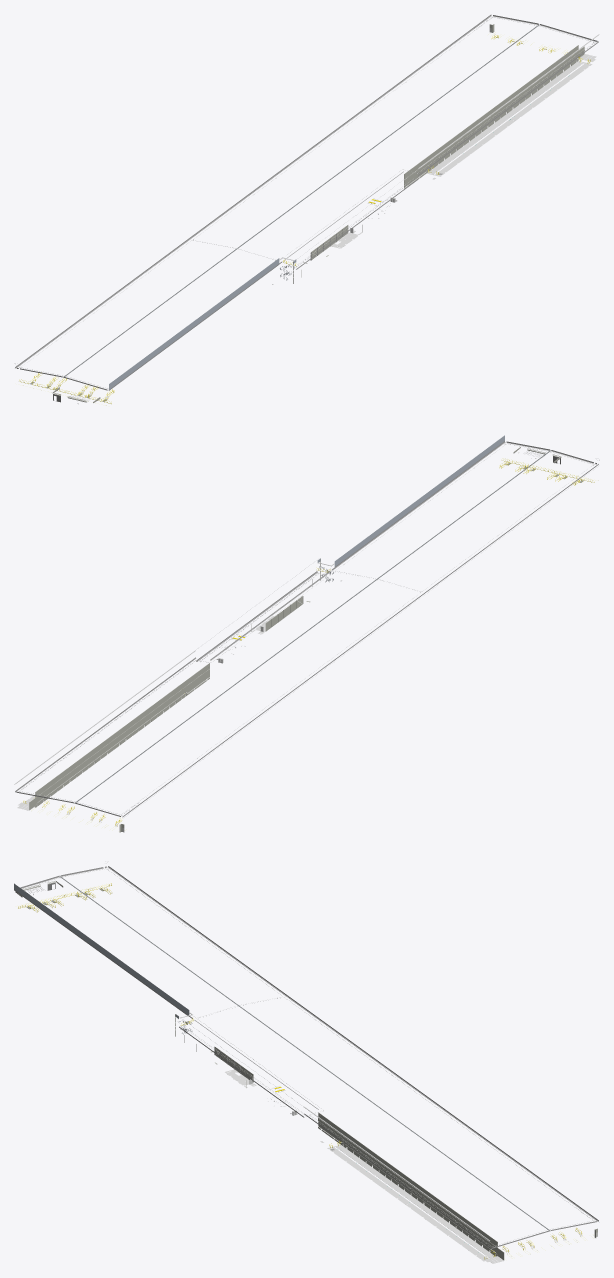
Rendered from pt104-l1t1-1542-104-con-ed-arq-mo-0001-r04.glb.
3 views of the same model, one above another, from view 1: azimuth 30°, elevation 25°; view 2: azimuth 210°, elevation 25°; view 3: azimuth 270°, elevation 25° (orthographic).
Visible parts, largest first — view 1: 0JfKUd1FP2OhY6RO0KGtgX, 39T_C8CmPA_g3YRH5obR$5, 3_Dmqi5Pj9nOBEPHfVFI5S, 2HG1oLTWjCpwLlsFWBGHlP, 3cgGebQ_P3nAF8r2o0mW8p, 3qeoG17_TDnPZ2jiwn3Fan; view 2: 39T_C8CmPA_g3YRH5obR$5, 3cgGebQ_P3nAF8r2o0mW8p, 2HG1oLTWjCpwLlsFWBGHlP, 3qeoG17_TDnPZ2jiwn3Fan, 3_Dmqi5Pj9nOBEPHfVFI5S; view 3: 0JfKUd1FP2OhY6RO0KGtgX, 39T_C8CmPA_g3YRH5obR$5, 3_Dmqi5Pj9nOBEPHfVFI5S, 2HG1oLTWjCpwLlsFWBGHlP, 3cgGebQ_P3nAF8r2o0mW8p, 3qeoG17_TDnPZ2jiwn3Fan.
Boxes of the visible parts, left/top/right/bottom form: 0JfKUd1FP2OhY6RO0KGtgX: left=427, top=61, right=592, bottom=176; 39T_C8CmPA_g3YRH5obR$5: left=404, top=51, right=578, bottom=188; 3_Dmqi5Pj9nOBEPHfVFI5S: left=15, top=14, right=491, bottom=368; 2HG1oLTWjCpwLlsFWBGHlP: left=109, top=258, right=279, bottom=389; 3cgGebQ_P3nAF8r2o0mW8p: left=404, top=45, right=578, bottom=179; 3qeoG17_TDnPZ2jiwn3Fan: left=63, top=24, right=539, bottom=377; 39T_C8CmPA_g3YRH5obR$5: left=35, top=669, right=209, bottom=807; 3cgGebQ_P3nAF8r2o0mW8p: left=35, top=663, right=209, bottom=797; 2HG1oLTWjCpwLlsFWBGHlP: left=334, top=435, right=504, bottom=566; 3qeoG17_TDnPZ2jiwn3Fan: left=74, top=450, right=550, bottom=803; 3_Dmqi5Pj9nOBEPHfVFI5S: left=122, top=464, right=598, bottom=817; 0JfKUd1FP2OhY6RO0KGtgX: left=327, top=1145, right=494, bottom=1261; 39T_C8CmPA_g3YRH5obR$5: left=318, top=1118, right=497, bottom=1256; 3_Dmqi5Pj9nOBEPHfVFI5S: left=108, top=866, right=598, bottom=1221; 2HG1oLTWjCpwLlsFWBGHlP: left=14, top=883, right=189, bottom=1015; 3cgGebQ_P3nAF8r2o0mW8p: left=318, top=1112, right=497, bottom=1247; 3qeoG17_TDnPZ2jiwn3Fan: left=60, top=876, right=550, bottom=1231.
Bounding box in the file's own units: 409 × 13.35 × 265.
